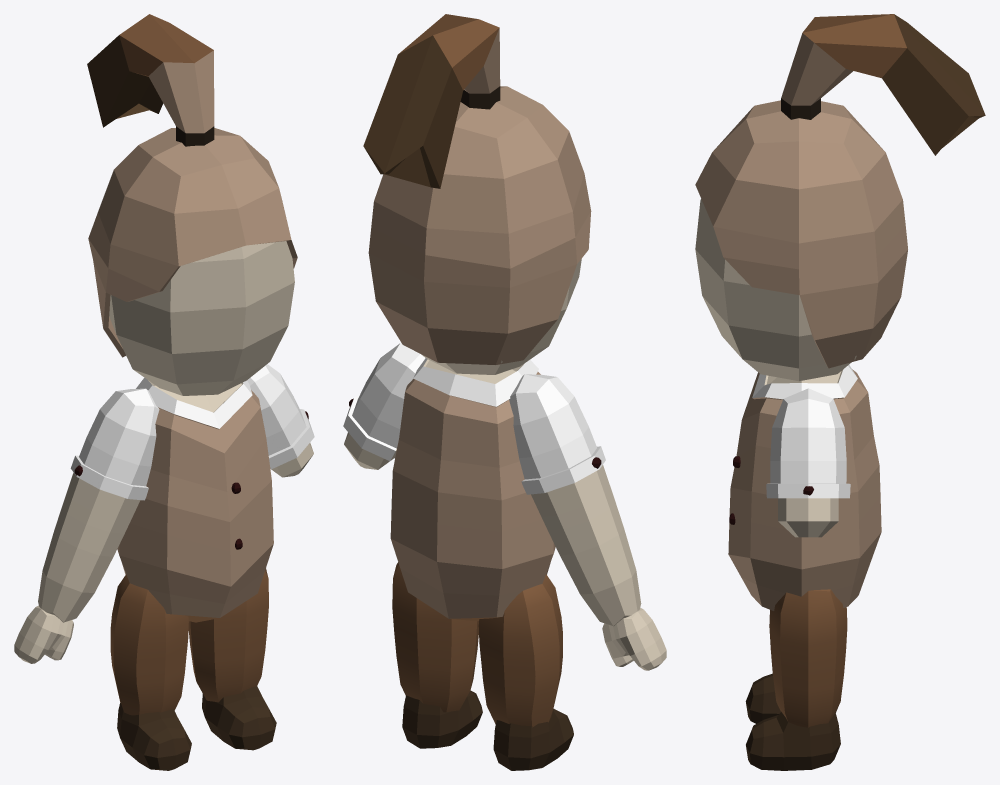
File: Bar tender.fbx
3 views of the same model, side by side, from view 1: azimuth 30°, elevation 25°; view 2: azimuth 150°, elevation 25°; view 3: azimuth 270°, elevation 25° (orthographic). The views are drawn at different scales.
Visible parts, largest first — view 1: Cube.025; view 2: Cube.025; view 3: Cube.025.
Part boxes in pixels (x1,y1,x2,y2): Cube.025: [14, 14, 314, 770]; Cube.025: [343, 14, 666, 770]; Cube.025: [695, 14, 985, 770].
Bounding box in the file's own units: 148 × 340 × 122.
